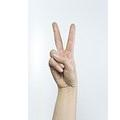tyoki: (48, 22, 78, 87)
